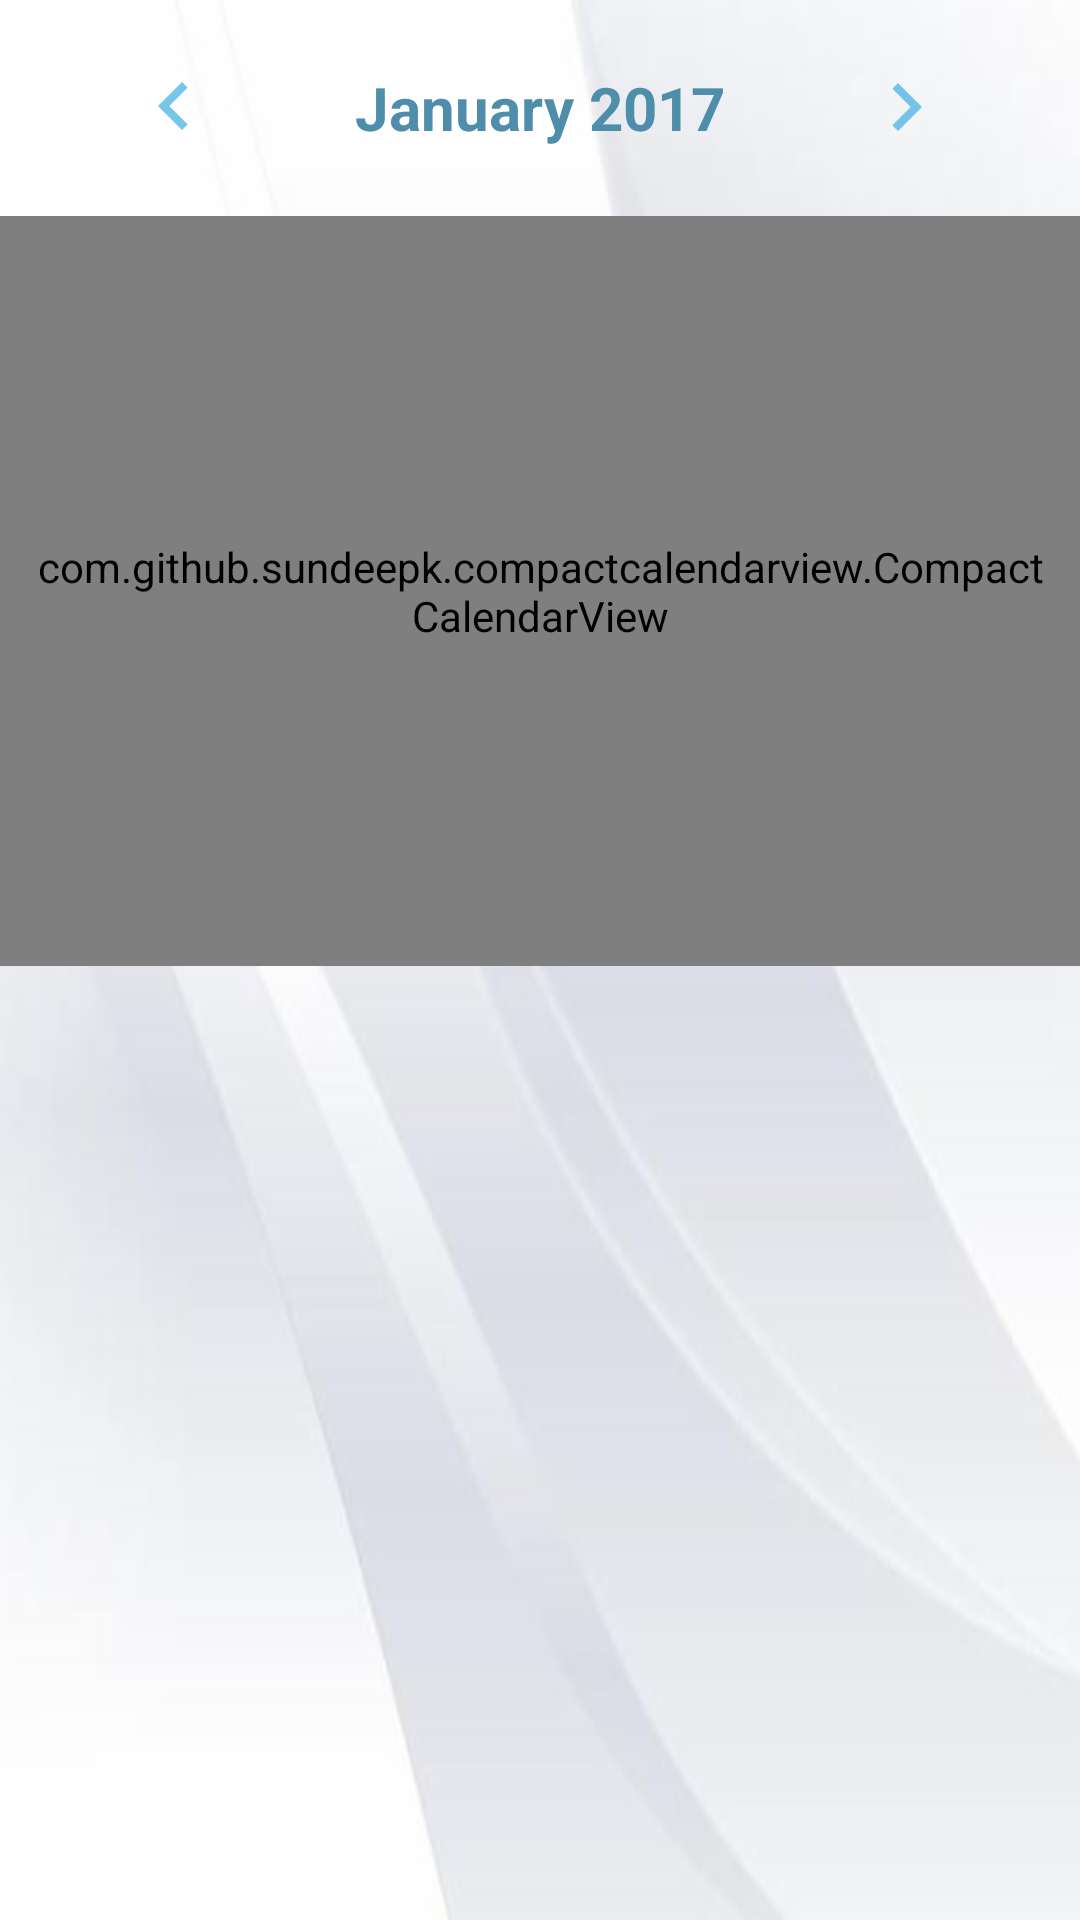

Point at icon controls on the screen. Image size 1080*1920, points as [x,y].
left: [173,106]
right: [907,107]
